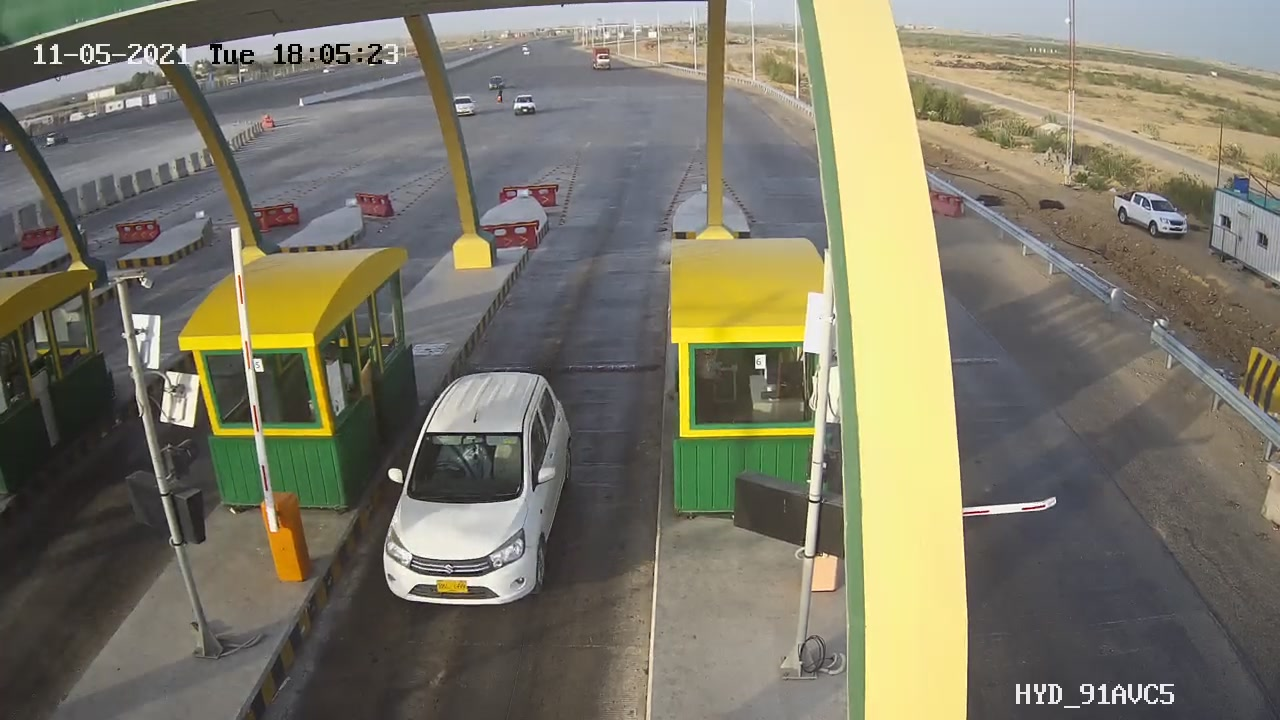F1: (365, 362, 586, 613)
